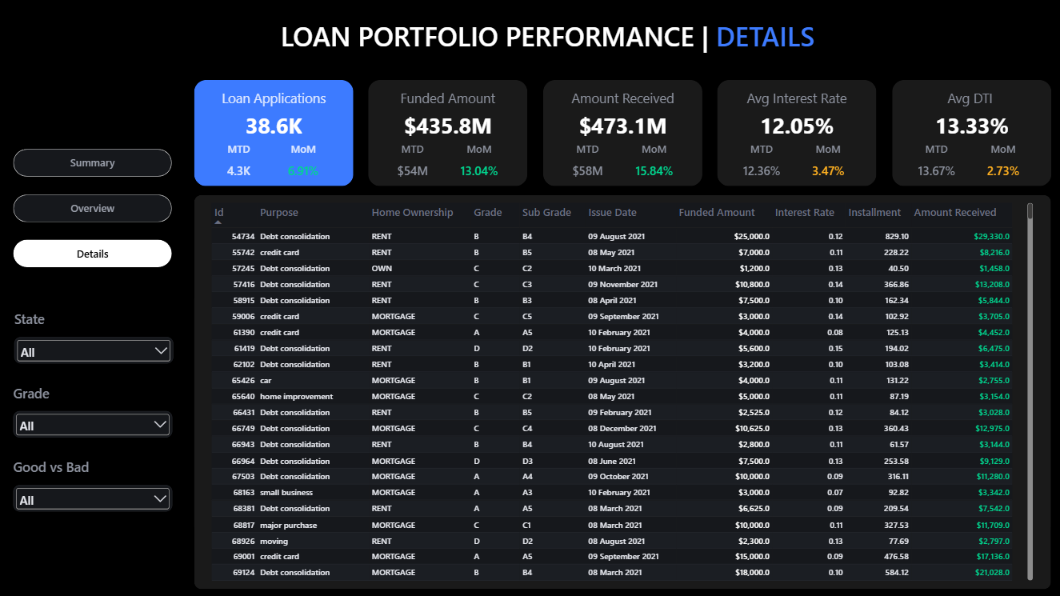

What the dashboard file says about the page in this screenshot:
{"tool":"powerbi","page":{"name":"Details","canvas":[1920,1080],"ordinal":2},"visuals":[{"type":"shape","box":[352,144,288,192],"z":0,"group":"g1"},{"type":"shape","box":[668,144,288,192],"z":0,"group":"g2"},{"type":"shape","box":[984,144,288,192],"z":0,"group":"g3"},{"type":"shape","box":[1300,144,288,192],"z":0,"group":"g4"},{"type":"shape","box":[1616,144,288,192],"z":0,"group":"g5"},{"type":"shape","box":[353,353,1550.4,713.3],"z":0},{"type":"shape","box":[2.1,104.3,336,976],"z":1000},{"type":"cardVisual","fields":{"Data":["bank_loan.Applications"]},"box":[352,192,288,64],"z":1000,"group":"g1"},{"type":"cardVisual","fields":{"Data":["bank_loan.Funded Amount"]},"box":[668,192,288,64],"z":1000,"group":"g2"},{"type":"cardVisual","fields":{"Data":["bank_loan.Amount Received"]},"box":[984,192,288,64],"z":1000,"group":"g3"},{"type":"cardVisual","fields":{"Data":["bank_loan.Avg Interest Rate"]},"box":[1300,192,288,64],"z":1000,"group":"g4"},{"type":"cardVisual","fields":{"Data":["bank_loan.Avg DTI"]},"box":[1616,192,288,64],"z":1000,"group":"g5"},{"type":"shape","box":[0,0,1920,112],"z":2000},{"type":"textbox","box":[352,160,288,32],"z":2000,"group":"g1"},{"type":"textbox","box":[668,160,288,32],"z":2000,"group":"g2"},{"type":"textbox","box":[984,160,288,32],"z":2000,"group":"g3"},{"type":"textbox","box":[1300,160,288,32],"z":2000,"group":"g4"},{"type":"textbox","box":[1616,160,288,32],"z":2000,"group":"g5"},{"type":"textbox","box":[336,32,1312,80],"z":3000},{"type":"cardVisual","title":"MTD","fields":{"Data":["bank_loan.MTD Loan Applications"]},"box":[384,256,96,64],"z":3000,"group":"g1"},{"type":"cardVisual","title":"MTD","fields":{"Data":["bank_loan.MTD Funded Amount"]},"box":[684,256,128,64],"z":3000,"group":"g2"},{"type":"cardVisual","title":"MTD","fields":{"Data":["bank_loan.MTD Amount Received"]},"box":[1000,256,128,64],"z":3000,"group":"g3"},{"type":"cardVisual","title":"MTD","fields":{"Data":["bank_loan.MTD Avg Interest Rate"]},"box":[1316,256,128,64],"z":3000,"group":"g4"},{"type":"cardVisual","title":"MTD","fields":{"Data":["bank_loan.MTD Avg DTI"]},"box":[1632,256,128,64],"z":3000,"group":"g5"},{"type":"group","id":"g1","title":"Group 1","box":[352,144,288,192],"z":4000},{"type":"cardVisual","title":"MoM","fields":{"Data":["bank_loan.MoM Loan Application"]},"box":[503.6,256,90.9,64],"z":4000,"group":"g1"},{"type":"cardVisual","title":"MoM","fields":{"Data":["bank_loan.MoM Funded Amount"]},"box":[812,256,112,64],"z":4000,"group":"g2"},{"type":"cardVisual","title":"MoM","fields":{"Data":["bank_loan.MoM Amount Received"]},"box":[1128,256,112,64],"z":4000,"group":"g3"},{"type":"cardVisual","title":"MoM","fields":{"Data":["bank_loan.MoM Avg Interest Ratet"]},"box":[1444,256,112,64],"z":4000,"group":"g4"},{"type":"cardVisual","title":"MoM","fields":{"Data":["bank_loan.MoM Avg DTI"]},"box":[1760,256,112,64],"z":4000,"group":"g5"},{"type":"group","id":"g2","title":"Group 1","box":[668,144,288,192],"z":5000},{"type":"group","id":"g3","title":"Group 1","box":[984,144,288,192],"z":6000},{"type":"group","id":"g4","title":"Group 1","box":[1300,144,288,192],"z":7000},{"type":"group","id":"g5","title":"Group 1","box":[1616,144,288,192],"z":8000},{"type":"group","id":"g6","title":"Group 3","box":[26.8,561.4,288,96],"z":9000},{"type":"group","id":"g7","title":"Group 3","box":[25,695.3,287.9,96.6],"z":10000},{"type":"group","id":"g8","title":"Group 3","box":[25,829.7,287.9,96.6],"z":11000},{"type":"tableEx","fields":{"Values":["bank_loan.id","bank_loan.purpose","bank_loan.home_ownership","bank_loan.grade","bank_loan.sub_grade","bank_loan.issue_date","bank_loan.Funded Amount","Sum(bank_loan.int_rate)","Sum(bank_loan.installment)","bank_loan.Amount Received"]},"box":[367.7,353,1519,713.3],"z":12000},{"type":"pageNavigator","box":[25.3,269.6,287.7,215.3],"z":13000},{"type":"slicer","fields":{"Values":["bank_loan.address_state"]},"box":[26.8,609.4,288,48],"z":14000,"group":"g6"},{"type":"slicer","fields":{"Values":["bank_loan.grade"]},"box":[25,743.3,288,48],"z":14000,"group":"g7"},{"type":"slicer","fields":{"Values":["bank_loan.Good vs Bad Loan"]},"box":[25,877.7,288,48],"z":14000,"group":"g8"},{"type":"textbox","box":[26.8,561.4,264,40],"z":15000,"group":"g6"},{"type":"textbox","box":[25,695.3,264,40],"z":15000,"group":"g7"},{"type":"textbox","box":[25,829.7,264,40],"z":15000,"group":"g8"}]}

Visuals, with their boxes in screenshot pixels (x1, y1, x2, y2), scaled from the page's 1920x1080 canvas onto the 1060x596 screenshot:
shape: bbox=[194, 79, 353, 185]
shape: bbox=[369, 79, 528, 185]
shape: bbox=[543, 79, 702, 185]
shape: bbox=[718, 79, 877, 185]
shape: bbox=[892, 79, 1051, 185]
shape: bbox=[195, 195, 1051, 588]
shape: bbox=[1, 58, 187, 595]
cardVisual - bank_loan.Applications: bbox=[194, 106, 353, 141]
cardVisual - bank_loan.Funded Amount: bbox=[369, 106, 528, 141]
cardVisual - bank_loan.Amount Received: bbox=[543, 106, 702, 141]
cardVisual - bank_loan.Avg Interest Rate: bbox=[718, 106, 877, 141]
cardVisual - bank_loan.Avg DTI: bbox=[892, 106, 1051, 141]
shape: bbox=[0, 0, 1059, 62]
textbox: bbox=[194, 88, 353, 106]
textbox: bbox=[369, 88, 528, 106]
textbox: bbox=[543, 88, 702, 106]
textbox: bbox=[718, 88, 877, 106]
textbox: bbox=[892, 88, 1051, 106]
textbox: bbox=[186, 18, 910, 62]
"MTD" cardVisual: bbox=[212, 141, 265, 177]
"MTD" cardVisual: bbox=[378, 141, 448, 177]
"MTD" cardVisual: bbox=[552, 141, 623, 177]
"MTD" cardVisual: bbox=[727, 141, 797, 177]
"MTD" cardVisual: bbox=[901, 141, 972, 177]
"Group 1" group: bbox=[194, 79, 353, 185]
"MoM" cardVisual: bbox=[278, 141, 328, 177]
"MoM" cardVisual: bbox=[448, 141, 510, 177]
"MoM" cardVisual: bbox=[623, 141, 685, 177]
"MoM" cardVisual: bbox=[797, 141, 859, 177]
"MoM" cardVisual: bbox=[972, 141, 1034, 177]
"Group 1" group: bbox=[369, 79, 528, 185]
"Group 1" group: bbox=[543, 79, 702, 185]
"Group 1" group: bbox=[718, 79, 877, 185]
"Group 1" group: bbox=[892, 79, 1051, 185]
"Group 3" group: bbox=[15, 310, 174, 363]
"Group 3" group: bbox=[14, 384, 173, 437]
"Group 3" group: bbox=[14, 458, 173, 511]
tableEx - bank_loan.id x bank_loan.purpose: bbox=[203, 195, 1042, 588]
pageNavigator: bbox=[14, 149, 173, 268]
slicer - bank_loan.address_state: bbox=[15, 336, 174, 363]
slicer - bank_loan.grade: bbox=[14, 410, 173, 437]
slicer - bank_loan.Good vs Bad Loan: bbox=[14, 484, 173, 511]
textbox: bbox=[15, 310, 161, 332]
textbox: bbox=[14, 384, 160, 406]
textbox: bbox=[14, 458, 160, 480]
